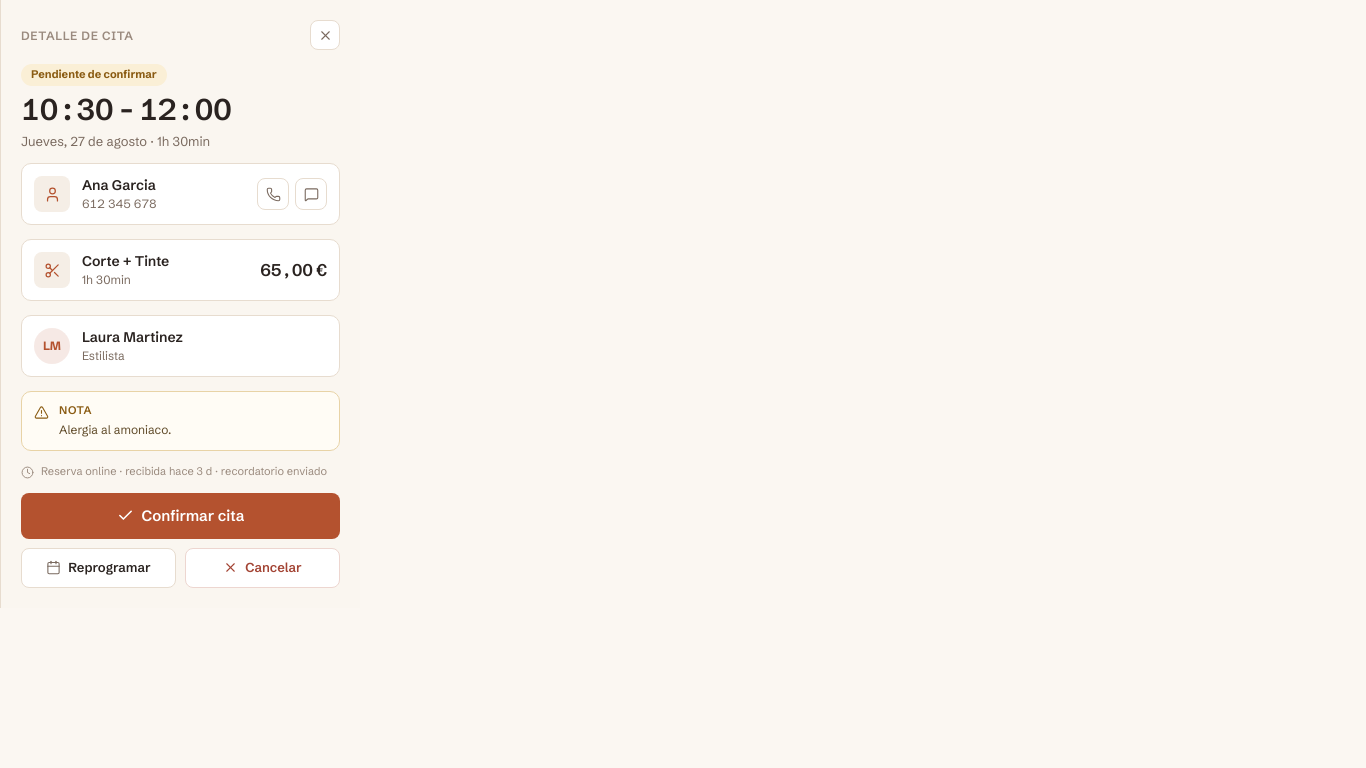
AppointmentDetailPanel › "Cancelar" abre el dialogo de cancelacion compartido (T5)
Click the button "Cancelar".
click(262, 568)  # box 185,548 -> 340,588
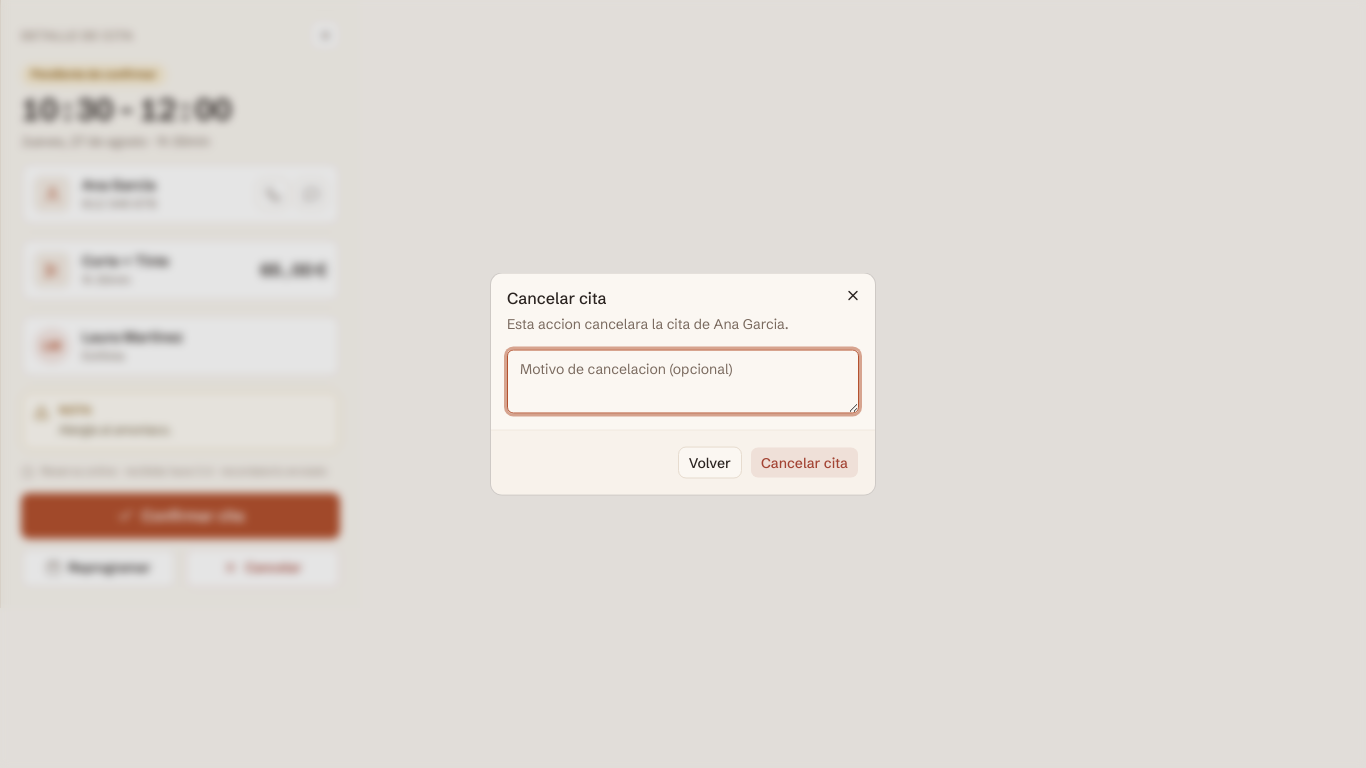
Expected: the button "Cancelar cita" is shown, 750,446 -> 859,478
